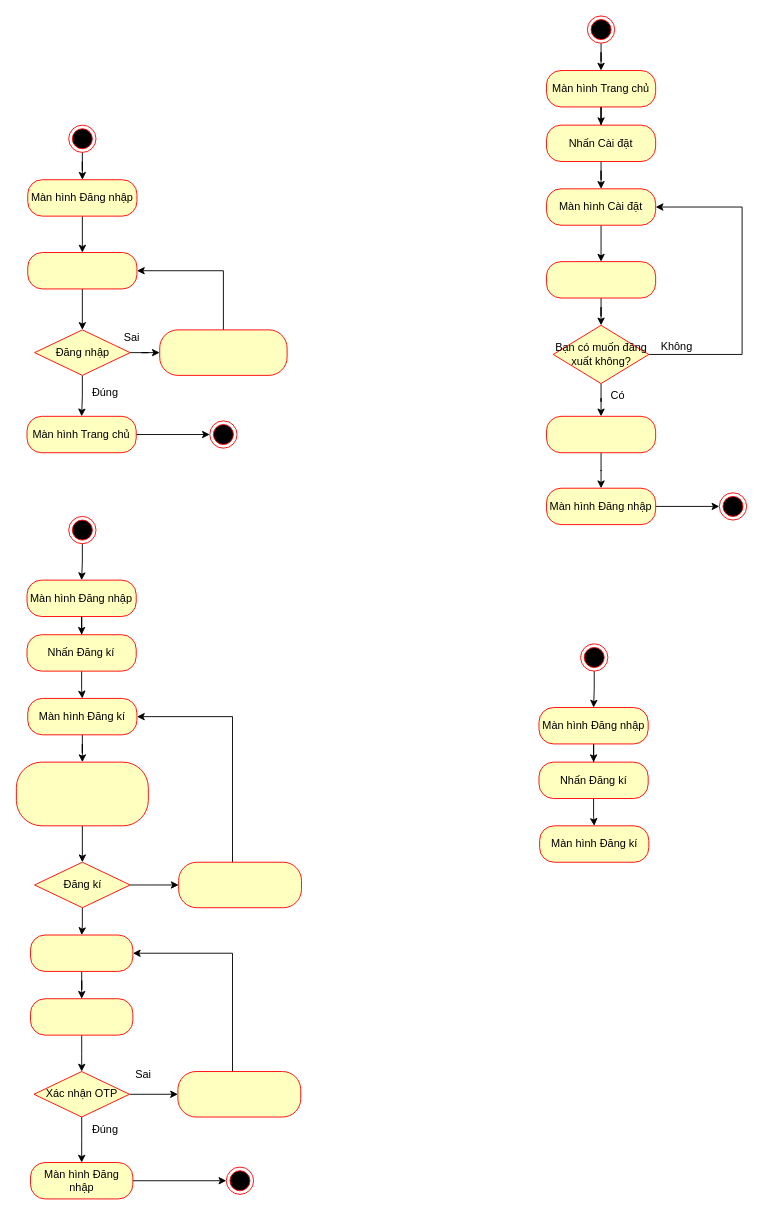
This 765x1215 diagram has some shape labels left out. The box of each missing label's shape, as (x1, y1, x2, y2) in pixels:
Màn hình kích hoạt OTP: (30, 934, 133, 971)
Nhấn Đăng xuất: (546, 261, 656, 298)
Nhập OTP đủ 6 số: (30, 998, 133, 1035)
Nhập đày đủ tài khoản mật khẩu: (27, 252, 137, 289)
Nhập đầy đủ tài khoản, mật khẩu, SDT, địa chỉ, tên ngày tháng năm sinh....: (15, 761, 148, 826)
Thông báo OTP không chính xác: (177, 1071, 301, 1117)
Thông báo tài khoản hoặc mật khẩu không chính xác: (159, 329, 287, 375)
Thông báo Tài khoản, Email hoặc SDT đã có người đăng kí: (178, 861, 301, 908)
Thông báo đăng xuất thành công: (546, 415, 656, 453)
